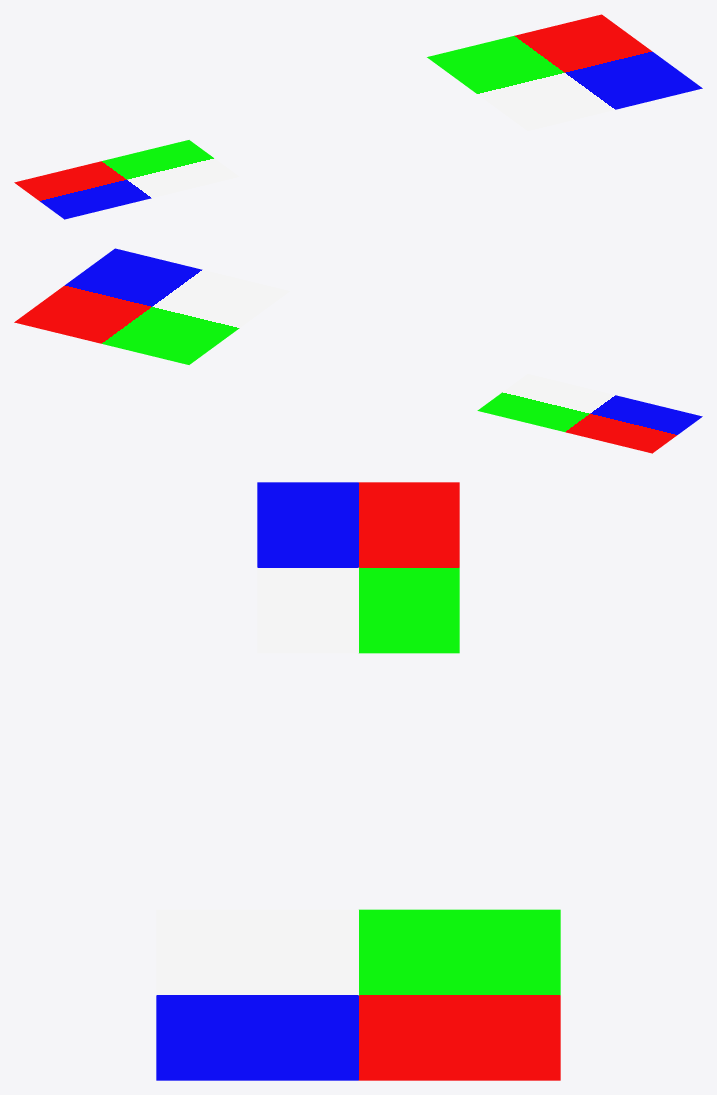
The model's file is multi.gltf.
3 views of the same model, one above another, from view 1: azimuth 30°, elevation 25°; view 2: azimuth 150°, elevation 25°; view 3: azimuth 270°, elevation 25° (orthographic). The views are drawn at different scales.
Bounding box in the file's own units: 7 × 0 × 2.
1 material, 1 textured.
